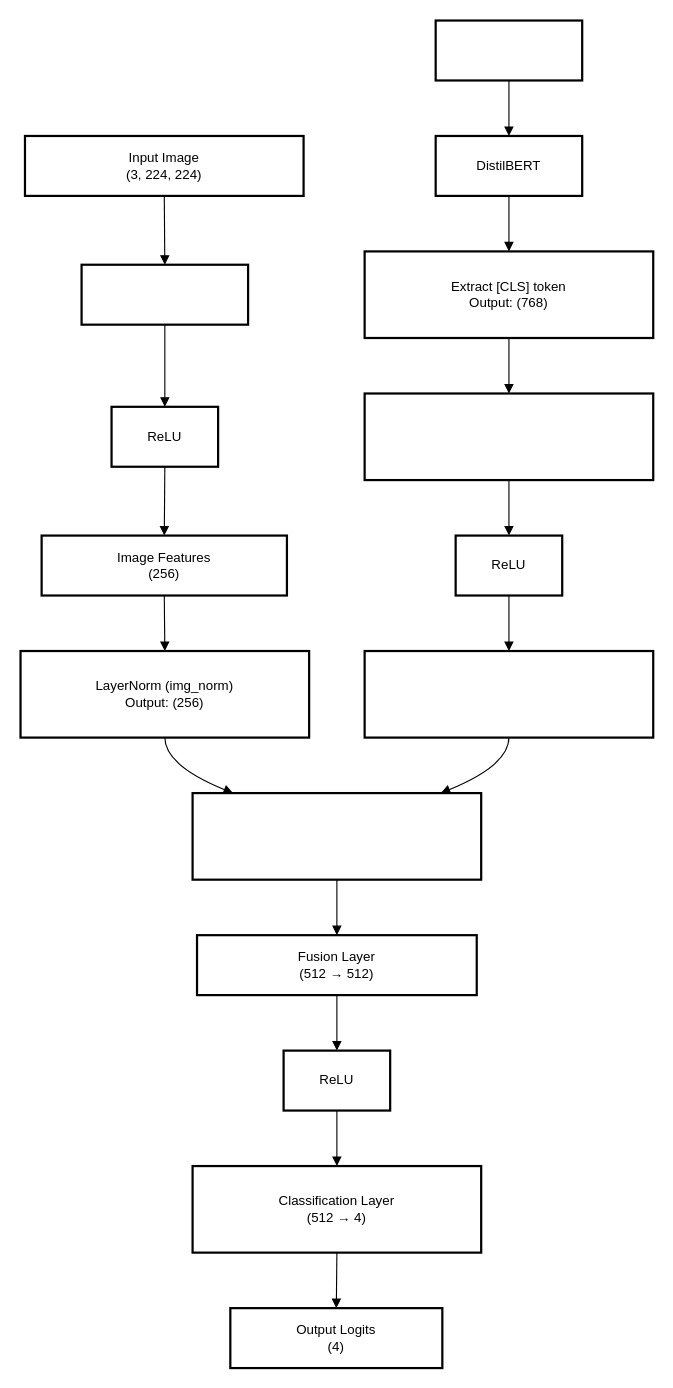
Image size: 673x1388. Some labels were removed from this diagram. The shapes that lost their labels are listed below. From the top down, each one's centre as x and y in pixels, then its label:
pixel 508 50: Input Text
pixel 164 294: MobileNetV2
pixel 508 436: Linear (text_fc) (768 → 256)
pixel 508 693: LayerNorm (txt_norm) Output: (256)
pixel 336 835: Concatenate (256 + 256 = 512)
